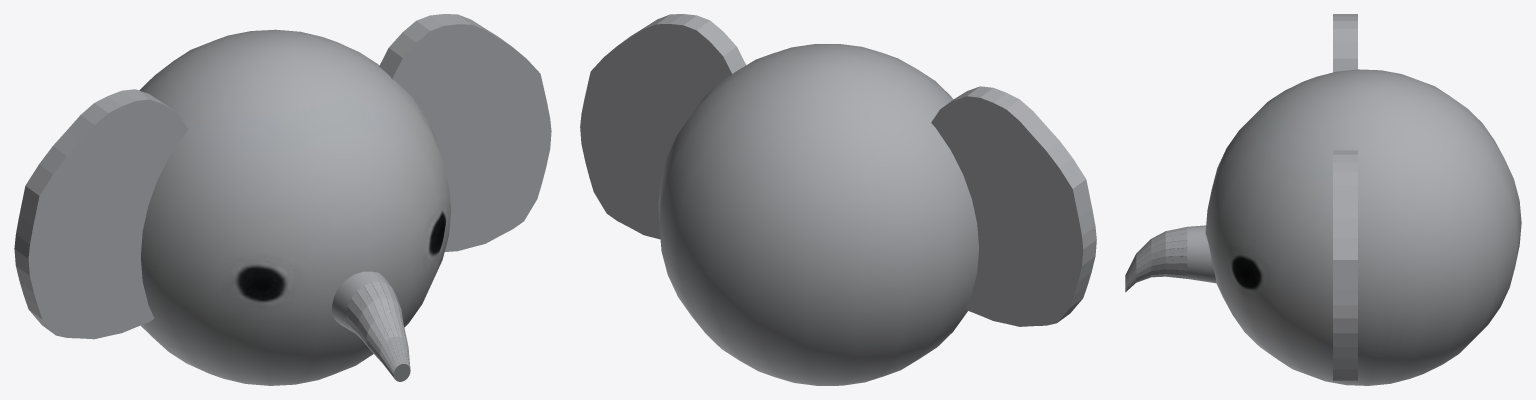
The model's file is daxiang.fbx.
3 renders of one model, left to right at view 1: azimuth 30°, elevation 25°; view 2: azimuth 150°, elevation 25°; view 3: azimuth 270°, elevation 25°, orthographic. The views are drawn at different scales.
Parts seen in each view (by area): view 1: pSphere22, pCube2, pCube1, pCylinder5; view 2: pSphere22, pCube2, pCube1; view 3: pSphere22, pCube1, pCylinder5, pCube2.
Boxes of the visible parts, x1=… form: pSphere22: x1=139, y1=29, x2=451, y2=385; pCube2: x1=14, y1=89, x2=188, y2=339; pCube1: x1=379, y1=14, x2=551, y2=251; pCylinder5: x1=332, y1=271, x2=410, y2=381; pSphere22: x1=658, y1=44, x2=978, y2=385; pCube2: x1=931, y1=86, x2=1096, y2=326; pCube1: x1=580, y1=14, x2=745, y2=239; pSphere22: x1=1205, y1=69, x2=1521, y2=385; pCube1: x1=1333, y1=150, x2=1357, y2=380; pCylinder5: x1=1125, y1=225, x2=1216, y2=292; pCube2: x1=1333, y1=14, x2=1357, y2=72.
Bounding box in the file's own units: 3.39 × 2 × 2.5.
1 material, 1 textured.
